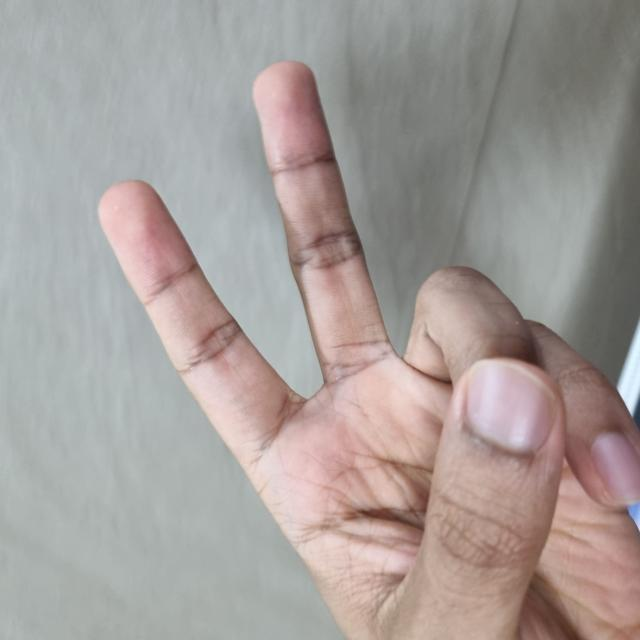Scissors: (0, 101, 574, 640)
